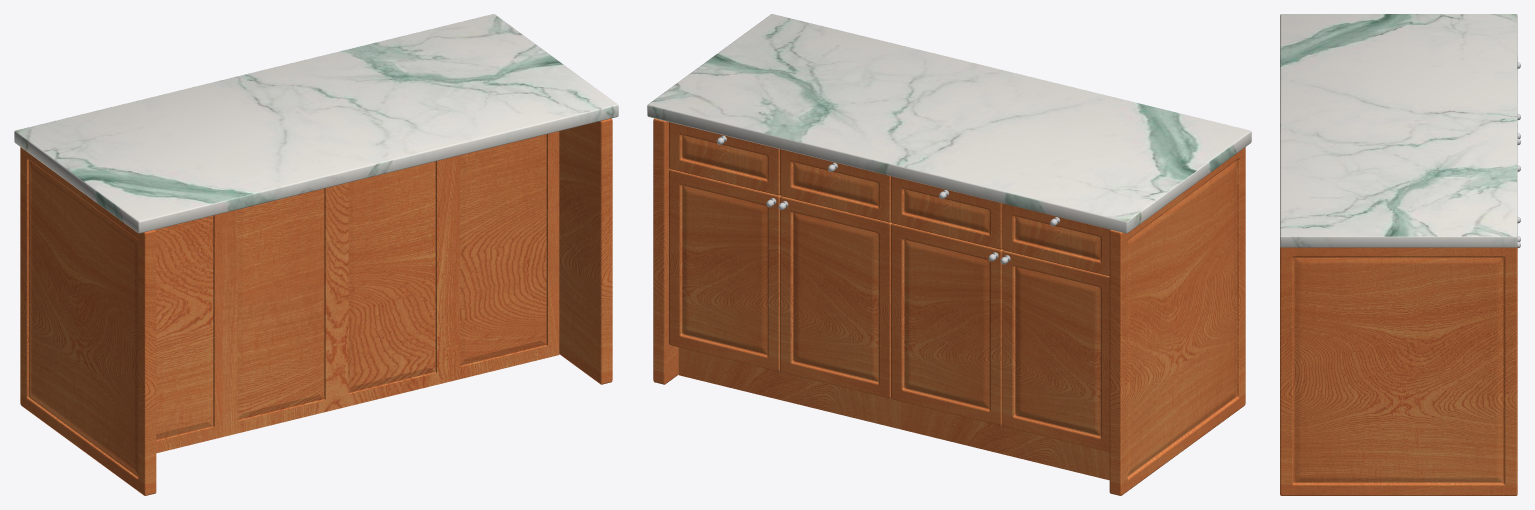
Rendered from Kitchen.glb.
3 views of the same model, side by side, from view 1: azimuth 30°, elevation 25°; view 2: azimuth 150°, elevation 25°; view 3: azimuth 270°, elevation 25° (orthographic). The views are drawn at different scales.
Visible parts, largest first — view 1: Kitchen Counter 001; view 2: Kitchen Counter 001; view 3: Kitchen Counter 001.
Part boxes in pixels (x1,y1,x2,y2): Kitchen Counter 001: (14, 14, 618, 495); Kitchen Counter 001: (647, 14, 1251, 495); Kitchen Counter 001: (1280, 14, 1520, 495).
Size of the model in its own units: 2 by 1.1 by 0.9126.
Materials: 4 (3 with a texture image).
